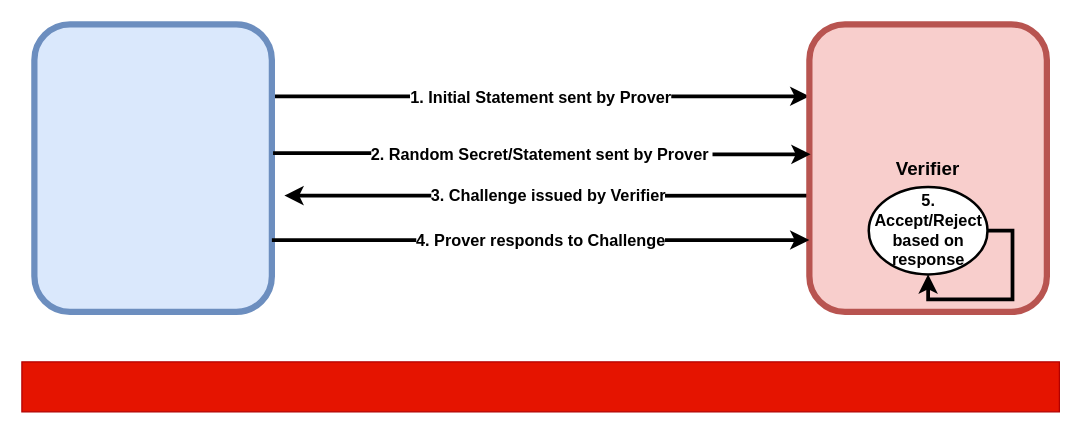
The diagram is 1081 pixels wide and 434 high, and some of its shapes have lost their labels. Here are the shapes that lost their labels. From the top down, the centre of each, then its label:
At (x=152, y=167): "Prover".
At (x=540, y=386): "Zero-Knowledge Proof Protocol Flow".
